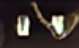COMP: (14, 12, 70, 40)
STAN: (32, 2, 48, 26), (47, 26, 70, 40), (67, 12, 78, 30), (36, 4, 43, 24)
